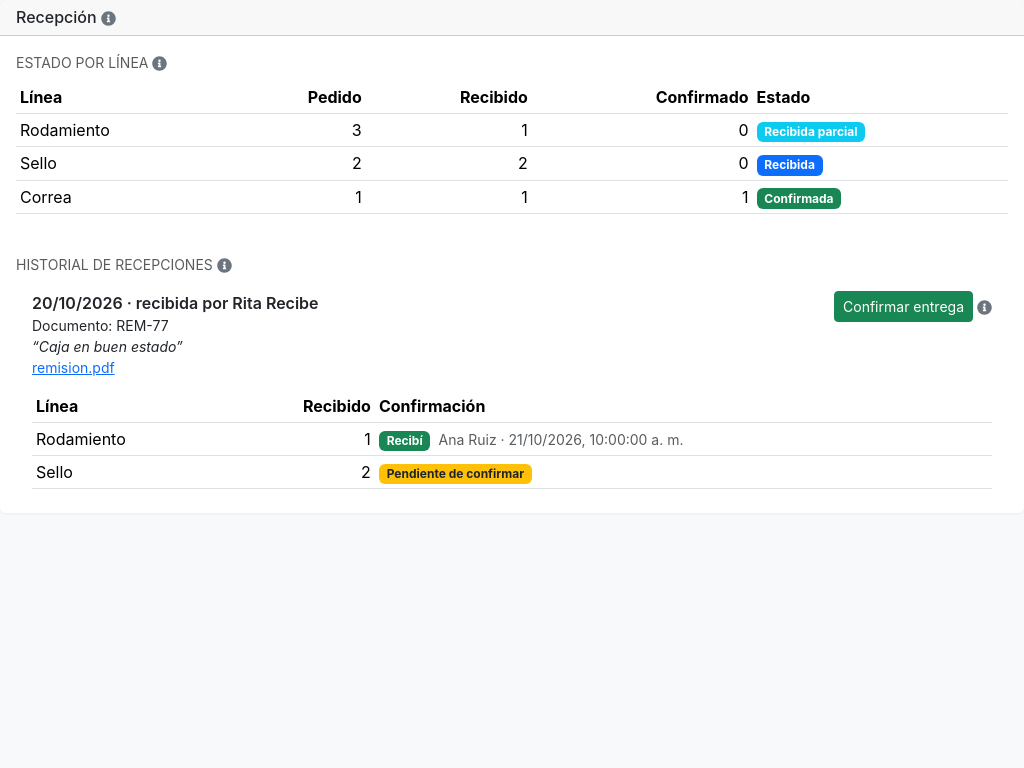
Test: RecepcionPanel › shows the Spanish message when the server refuses a confirmation
The width and height of the screenshot is (1024, 768).
Click the button "Confirmar entrega" at (904, 306), box [834, 291, 973, 322]
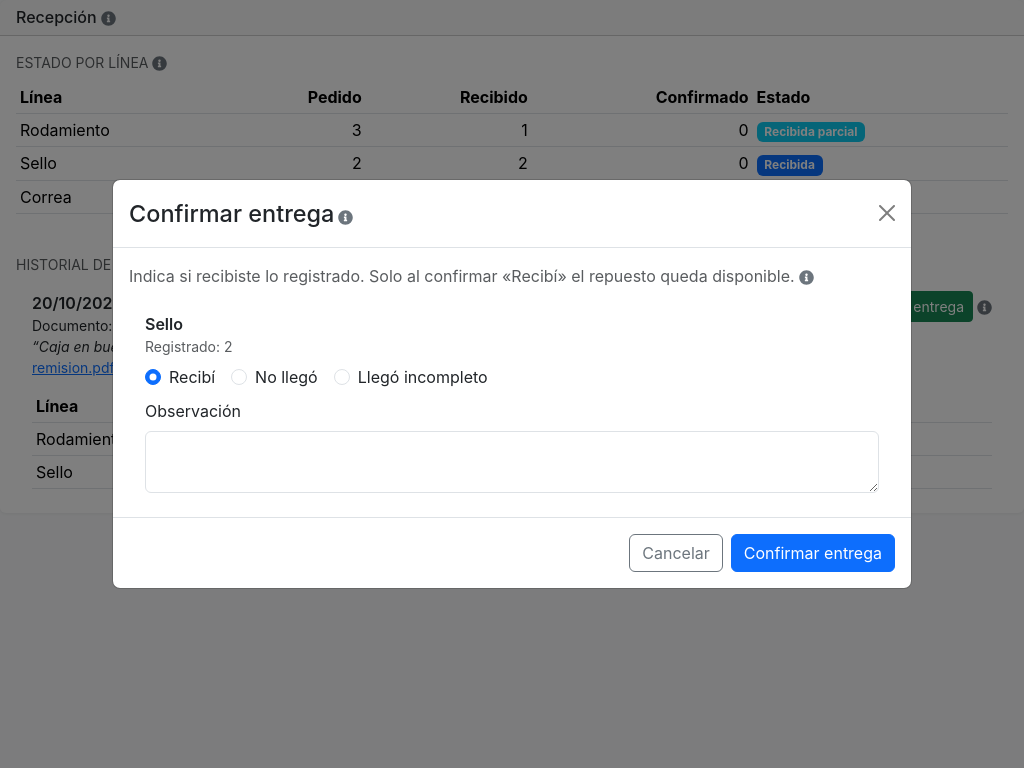
Click the button "Confirmar entrega" at (813, 553), box [731, 534, 895, 572]
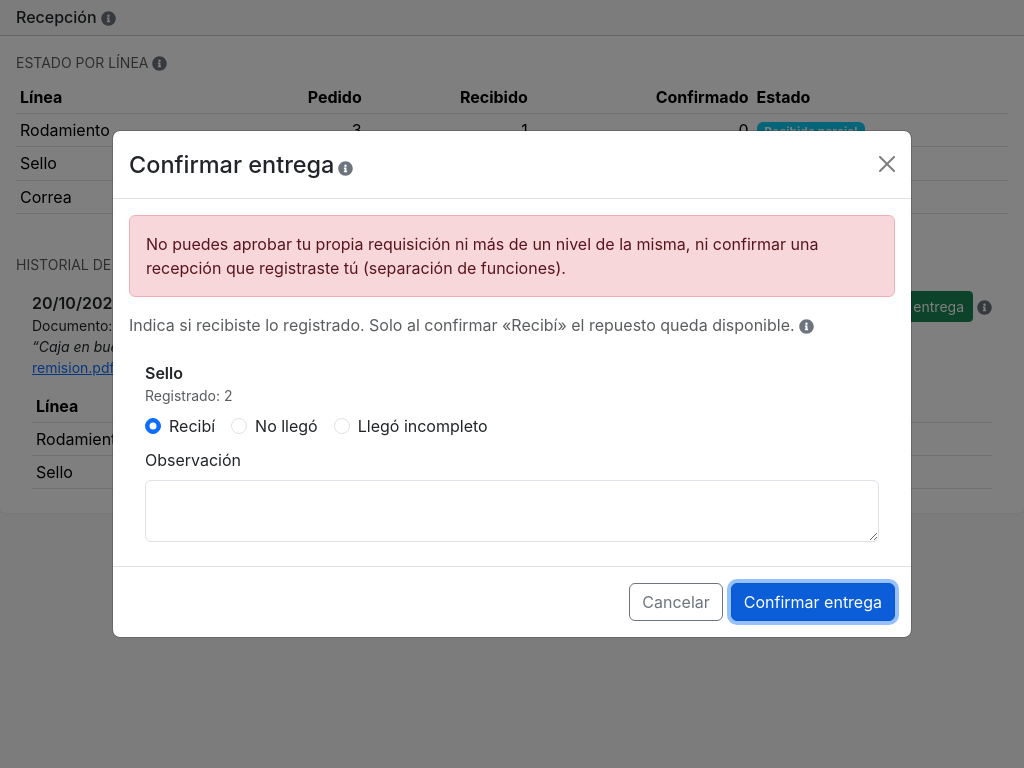
Now the message shows "separación de funciones", box [146, 234, 818, 278]
